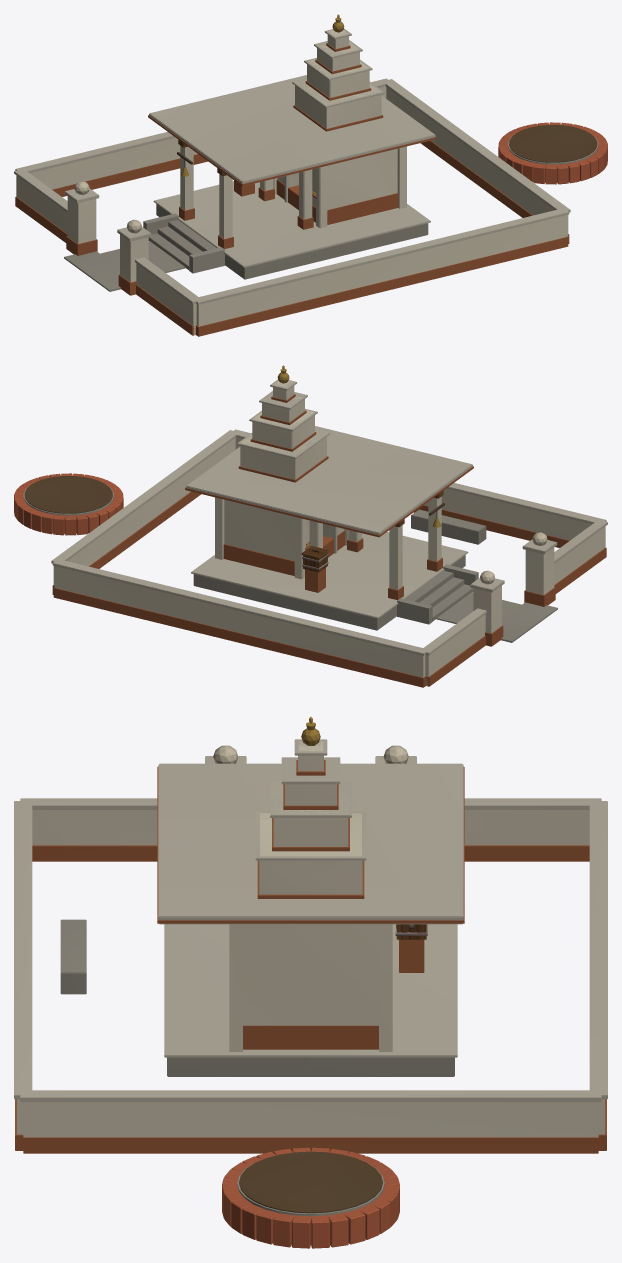
File: temple.glb
3 renders of one model, top to bottom at view 1: azimuth 30°, elevation 25°; view 2: azimuth 150°, elevation 25°; view 3: azimuth 270°, elevation 25°, orthographic. The views are drawn at different scales.
Visible parts, largest first — view 1: hb_main, hb_props, hb_brick; view 2: hb_main, hb_props, hb_brick, hb_terracotta; view 3: hb_main, hb_props, hb_brick.
Part boxes in pixels (box(x1,y1,x2,y2)): hb_main: box(14, 28, 598, 336); hb_props: box(74, 14, 597, 233); hb_brick: box(498, 122, 607, 184); hb_main: box(23, 379, 607, 687); hb_props: box(24, 365, 547, 584); hb_brick: box(14, 473, 123, 535); hb_terracotta: box(301, 490, 443, 572); hb_main: box(14, 739, 607, 1216); hb_props: box(213, 717, 408, 1213); hb_brick: box(222, 1147, 399, 1248).
Bounding box in the file's own units: 16.75 × 6.22 × 10.32.
